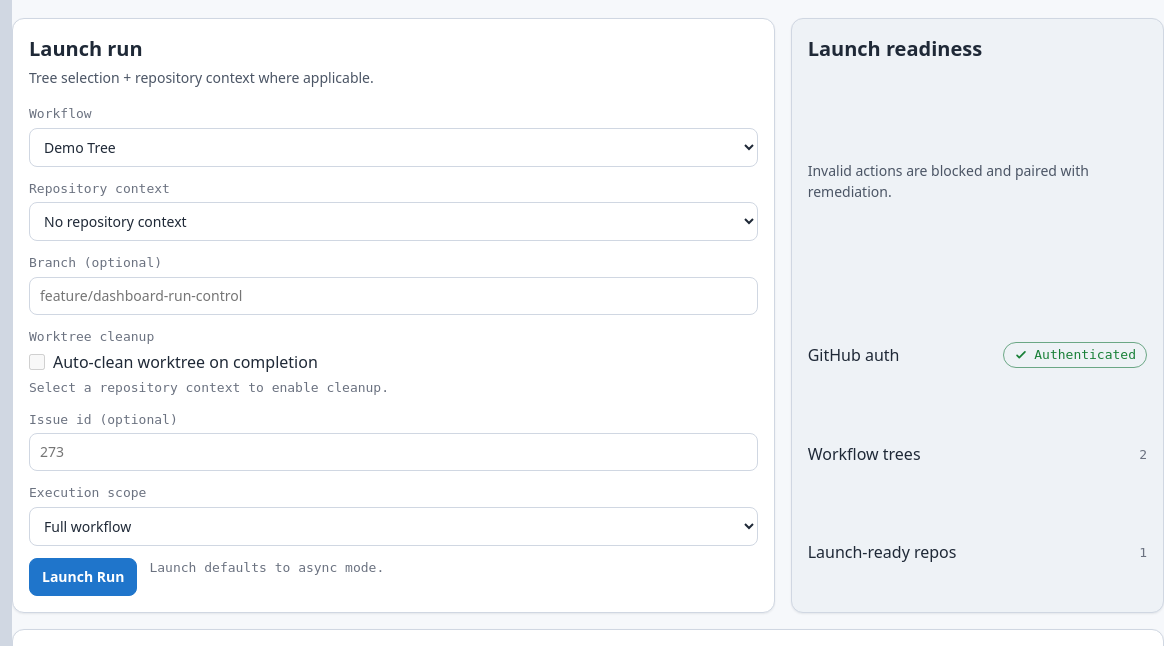
Test case: RunsPage › launches a run and refreshes lifecycle rows
Step 1. Select "Other Tree" in the dropdown labelled "Workflow" → (393, 147), box [29,128,758,166]
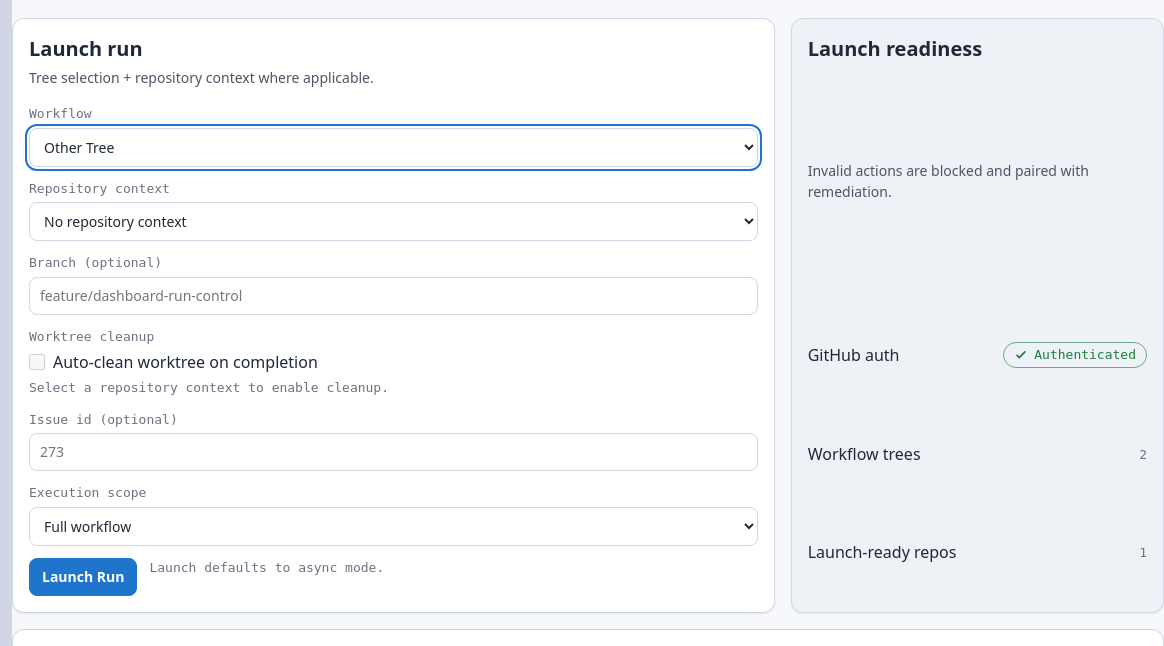
Step 2. Select "demo-repo" in the dropdown labelled "Repository context" → (393, 222), box [29,202,758,241]
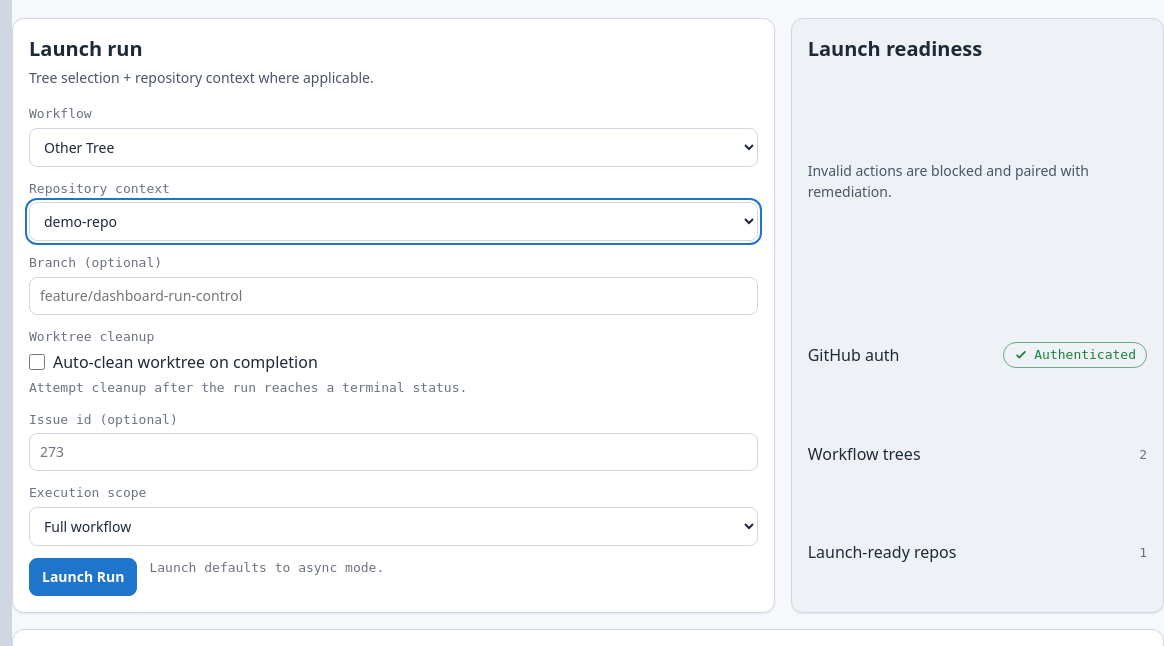
Step 3. Type "feature/runs-ui" into the field labelled "Branch (optional)" → (393, 296), box [29,276,758,314]
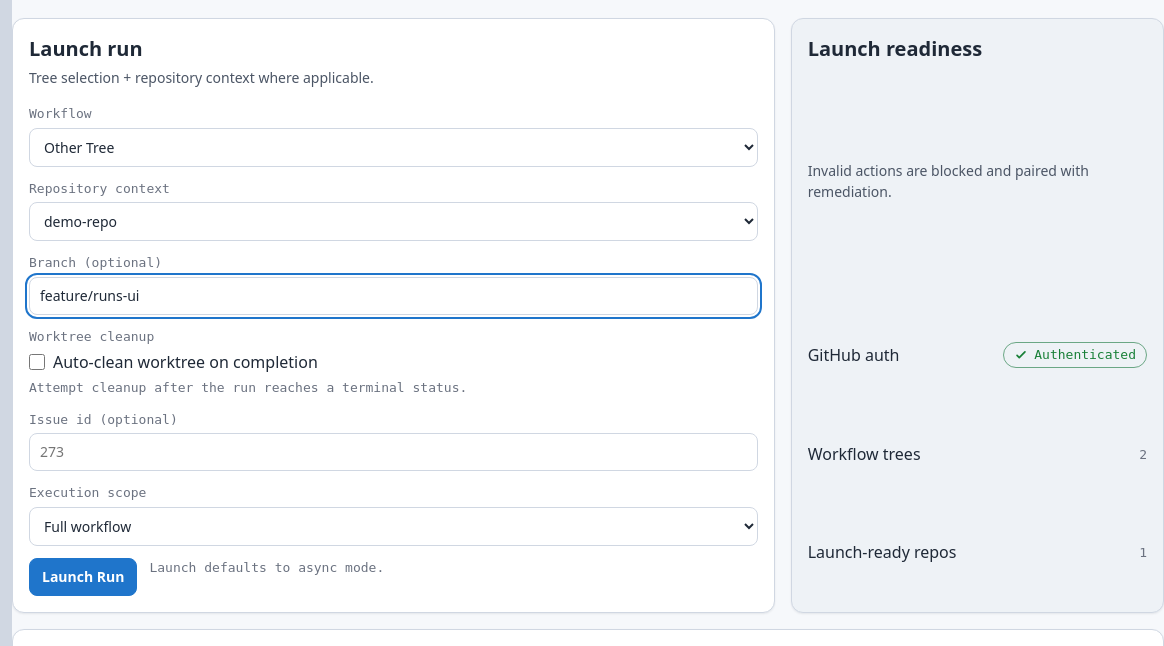
Step 4. Click the button "Launch Run" → (83, 576), box [29,558,137,596]
(page scrolled)
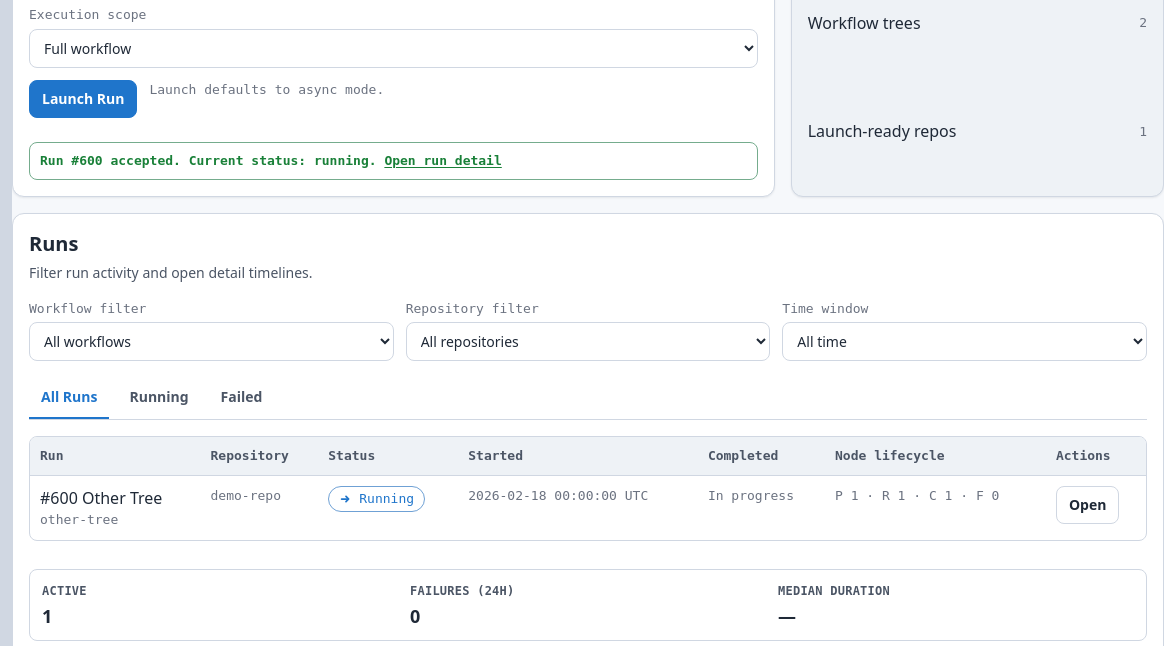
Now the text "Run #600 accepted. Current status: running. Open run detail" is shown, box [29,142,758,180]
Now the text "#600 Other Tree" is shown, box [40,487,162,509]
